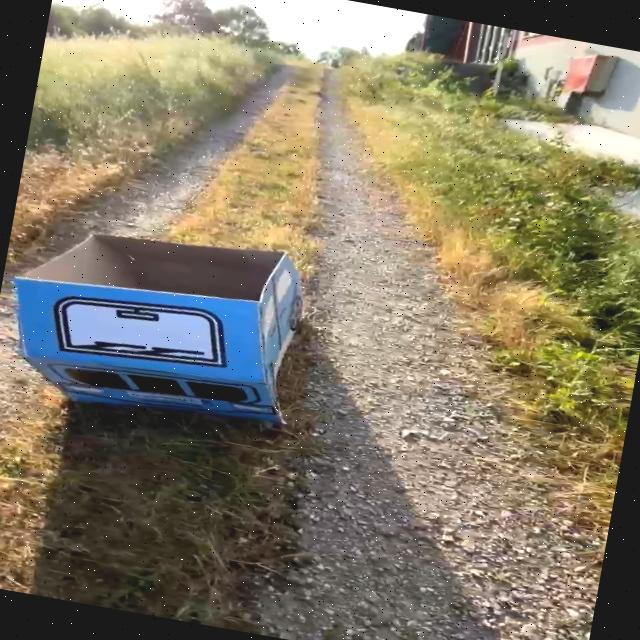blue_car: (0, 193, 437, 477)
